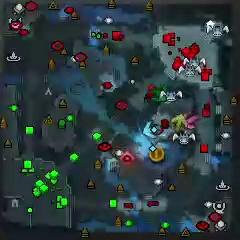Other: (149, 146, 164, 161)
x1: (182, 112, 198, 129)
x2: (171, 114, 188, 133)
x3: (143, 120, 160, 139)
x4: (152, 86, 170, 103)
